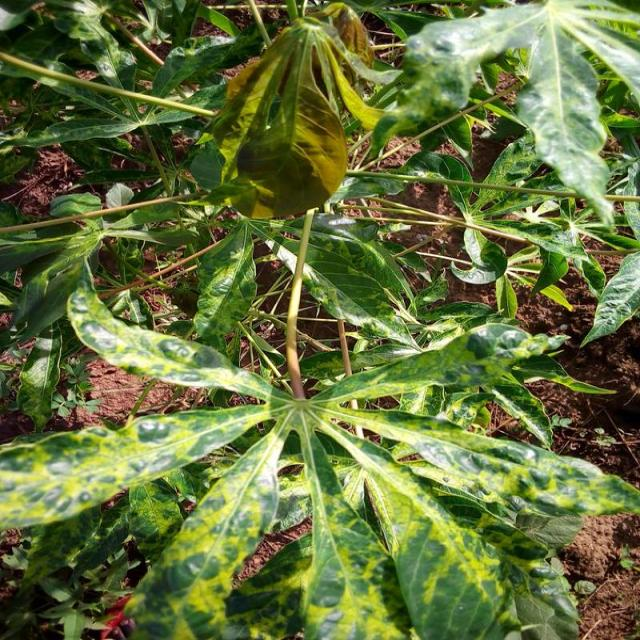cassava leaf: (2, 4, 640, 638), (189, 14, 397, 220)
